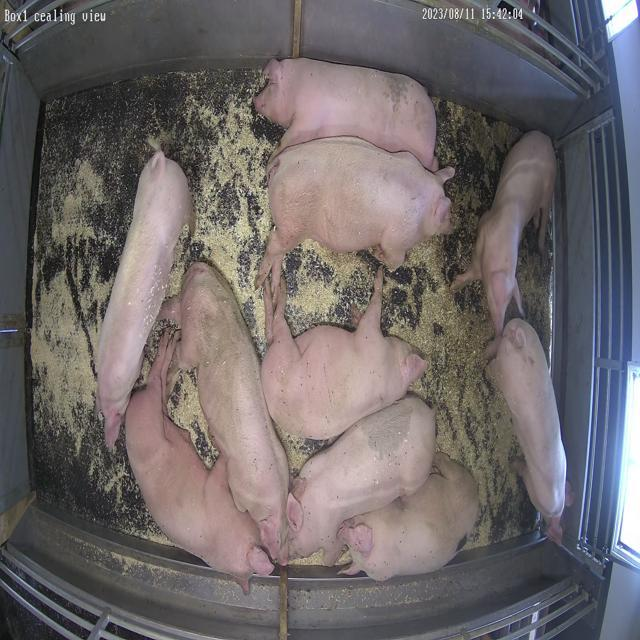Dirt: (434, 96, 516, 288), (518, 209, 555, 286), (449, 285, 488, 316)
Pig: (159, 262, 289, 566), (126, 332, 274, 592), (258, 136, 455, 290), (96, 151, 192, 448), (262, 269, 428, 440), (288, 396, 436, 566), (452, 130, 558, 336), (254, 57, 439, 170), (340, 454, 480, 582), (489, 319, 568, 520)
